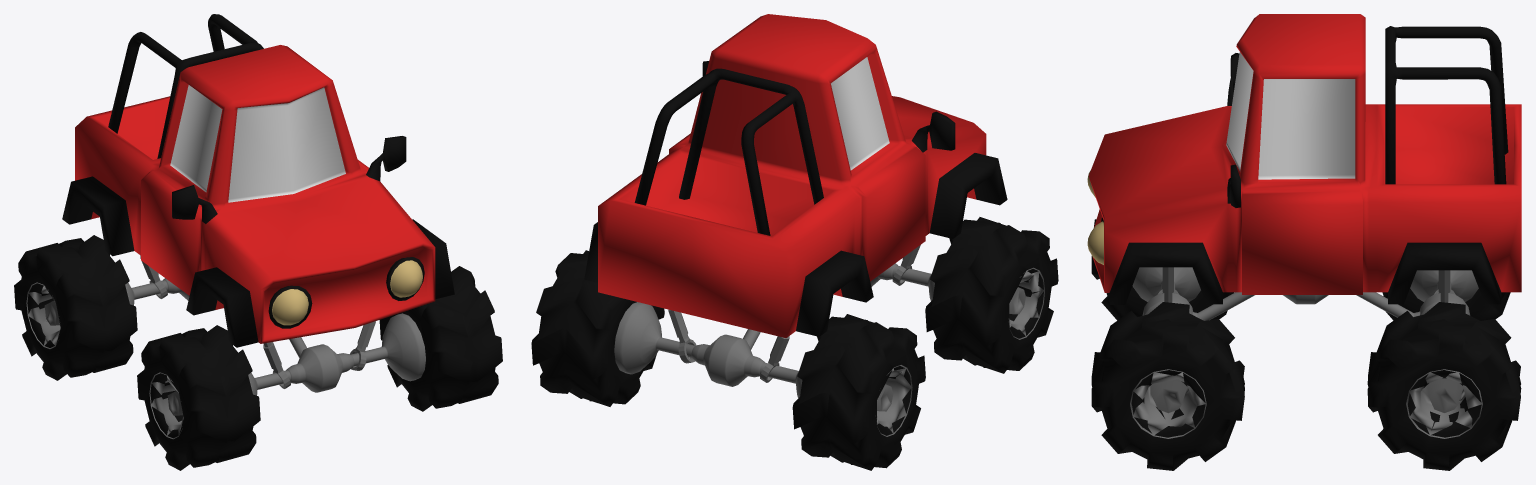
The model's file is monster.glb.
3 renders of one model, left to right at view 1: azimuth 30°, elevation 25°; view 2: azimuth 150°, elevation 25°; view 3: azimuth 270°, elevation 25°, orthographic. The views are drawn at different scales.
Visible parts, largest first — view 1: body, wheel_fr, wheel_rr, wheel_fl; view 2: body, wheel_rr, wheel_fr, wheel_rl; view 3: body, wheel_fl, wheel_rl, wheel_fr, wheel_rr.
Boxes of the visible parts, box(x1,y1,x2,y2) form: body: box(62, 14, 454, 395); wheel_fr: box(137, 325, 260, 470); wheel_rr: box(14, 235, 137, 380); wheel_fl: box(379, 266, 502, 411); body: box(584, 14, 1007, 397); wheel_rr: box(792, 314, 925, 470); wheel_fr: box(925, 217, 1058, 373); wheel_rl: box(531, 250, 664, 406); body: box(1087, 14, 1521, 320); wheel_fl: box(1091, 302, 1244, 470); wheel_rl: box(1367, 302, 1521, 470); wheel_fr: box(1091, 219, 1234, 320); wheel_rr: box(1382, 288, 1510, 320).
Size of the model in its own units: 4.03 by 3.92 by 4.4.
